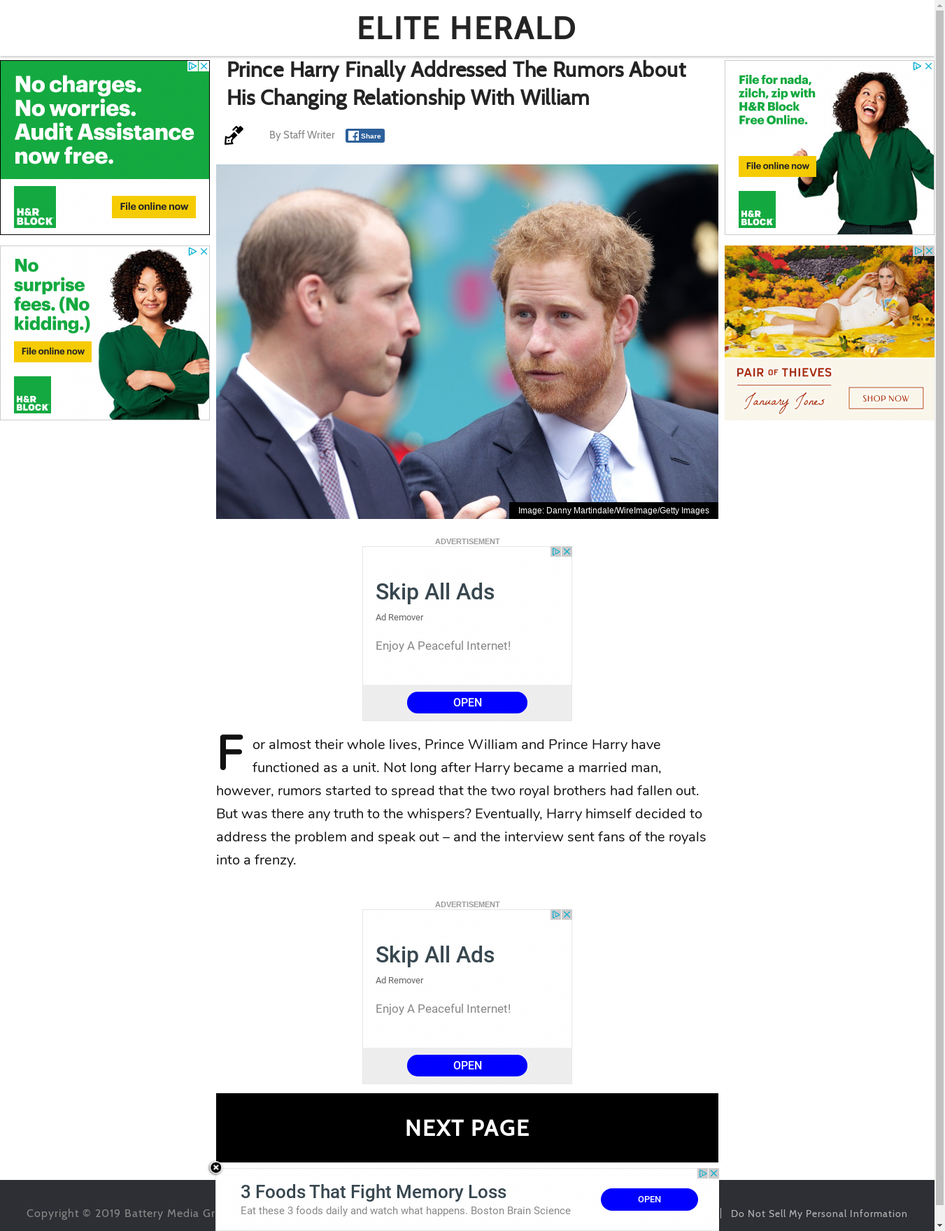fake_button: (397, 1039, 540, 1091), (392, 677, 544, 722)
